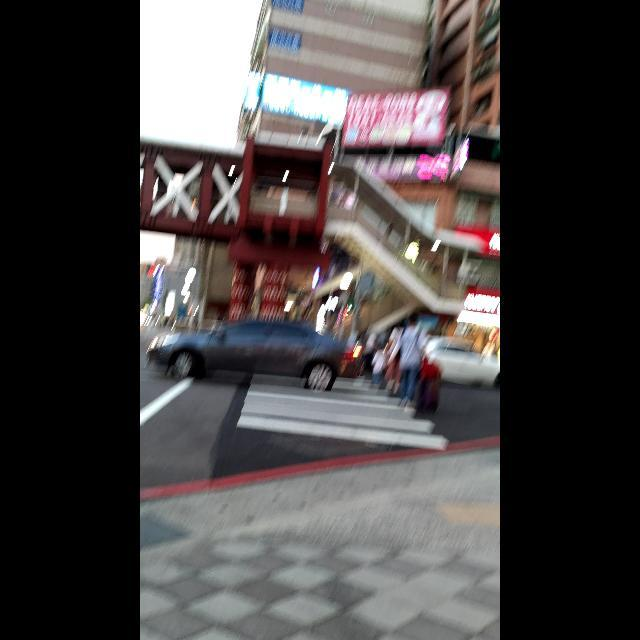sidewalk: (240, 370, 448, 453)
